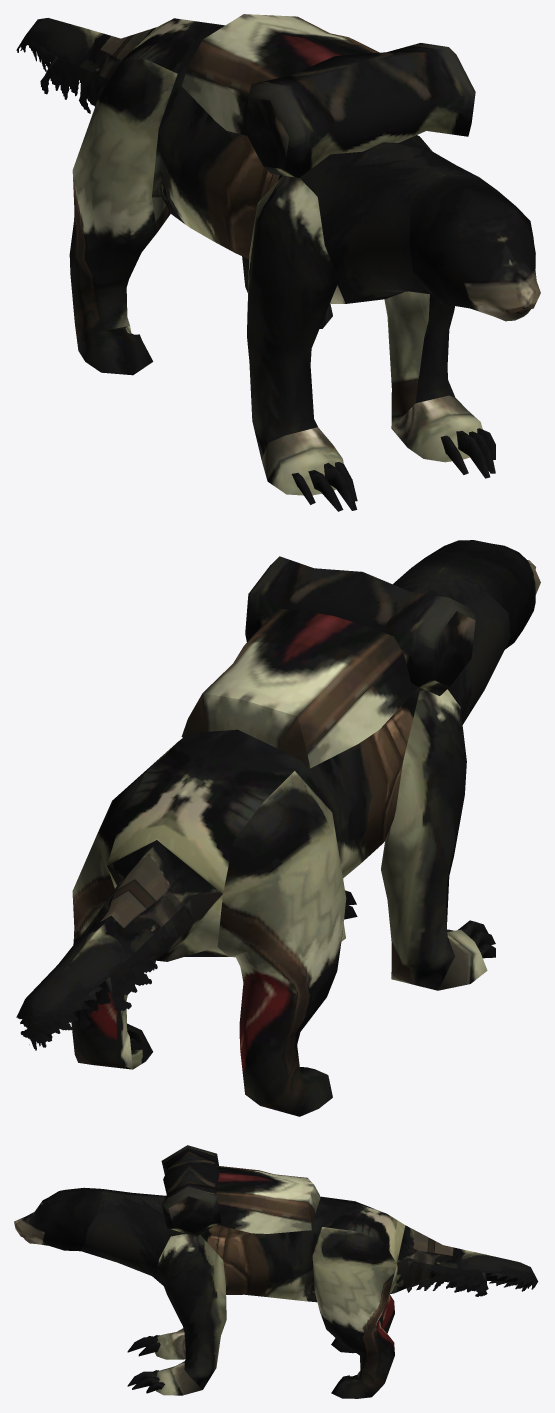
File: honeybadger_cbfd170b.glb
3 renders of one model, top to bottom at view 1: azimuth 30°, elevation 25°; view 2: azimuth 150°, elevation 25°; view 3: azimuth 270°, elevation 25°, orthographic. The views are drawn at different scales.
Bounding box in the file's own units: 0.5432 × 0.8573 × 1.98.
Materials: 1 (1 with a texture image).
